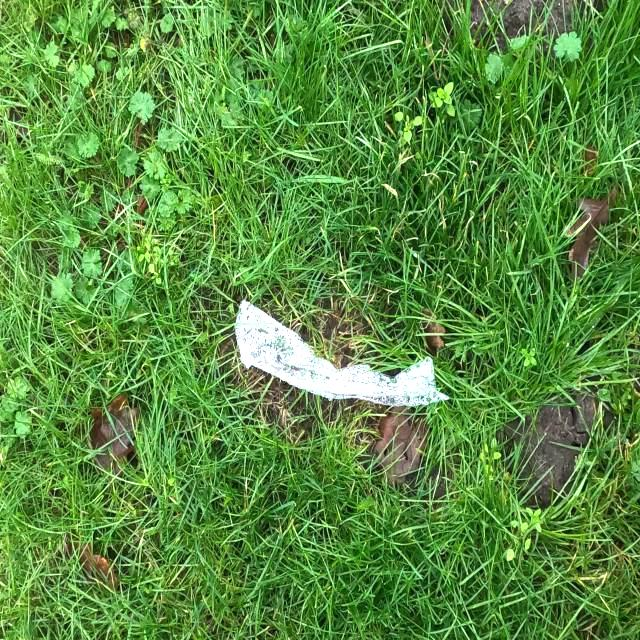Plastic: (232, 298, 450, 407)
